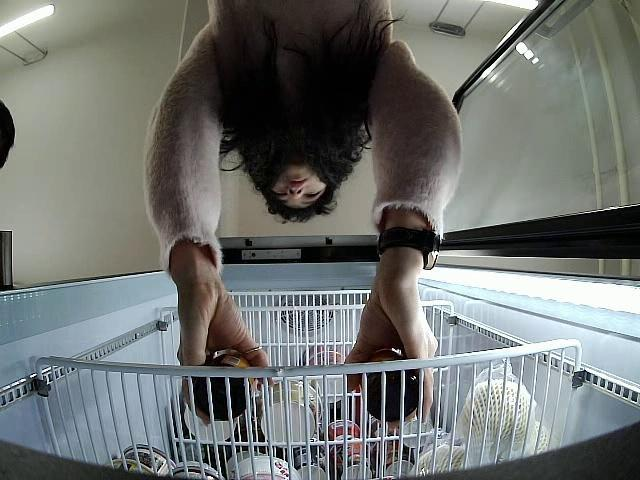17_vita500: (195, 344, 256, 422), (360, 352, 421, 425)
